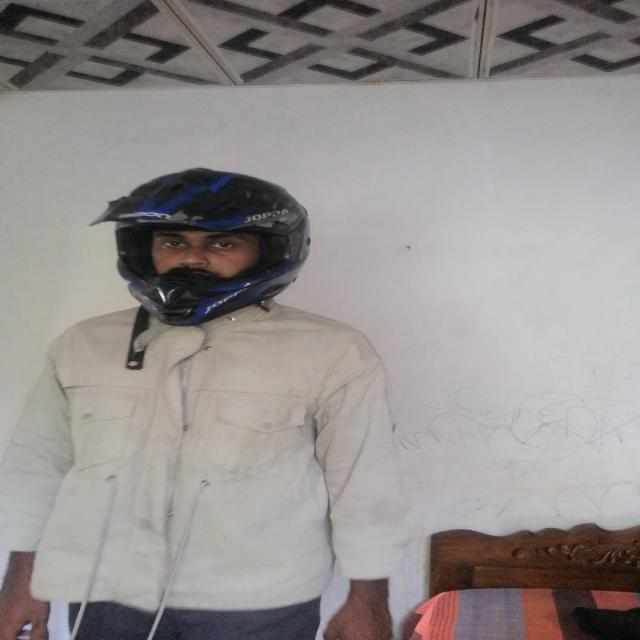Helmet_Wearer: (82, 166, 314, 332)
Jacket_Wearer: (26, 288, 410, 596)
Person: (28, 171, 398, 640)
